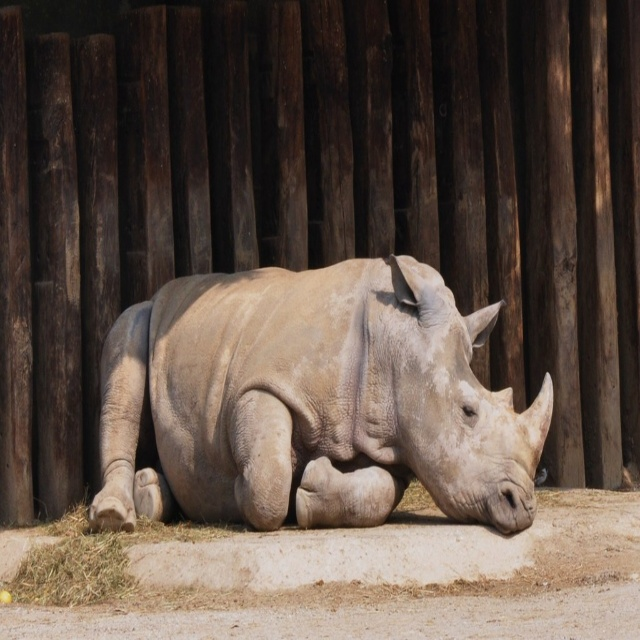Rhinoceros: (84, 249, 555, 531)
